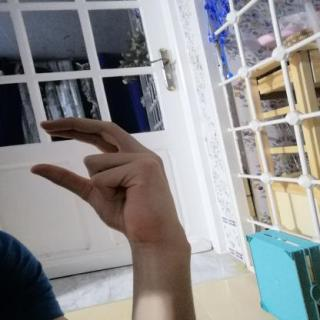DHELL: (23, 110, 185, 239)
